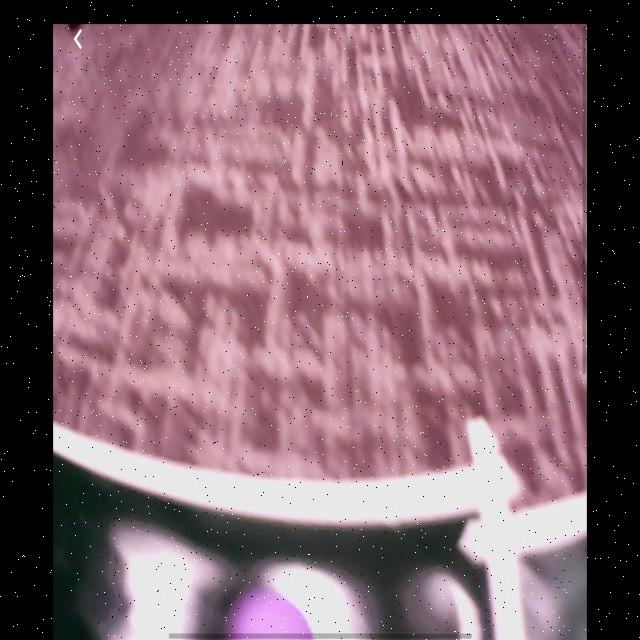ball: (224, 587, 316, 639)
